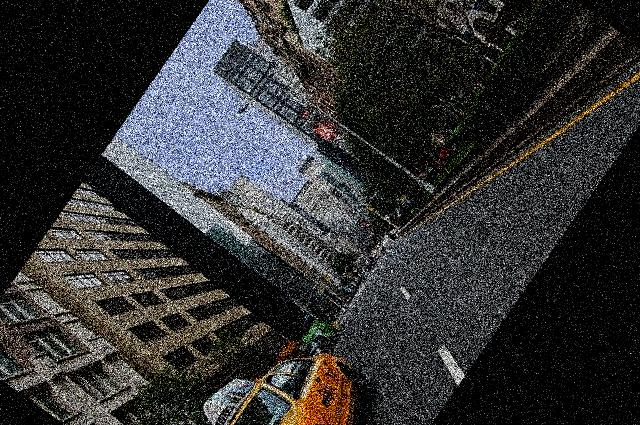taxi: (202, 347, 359, 425)
